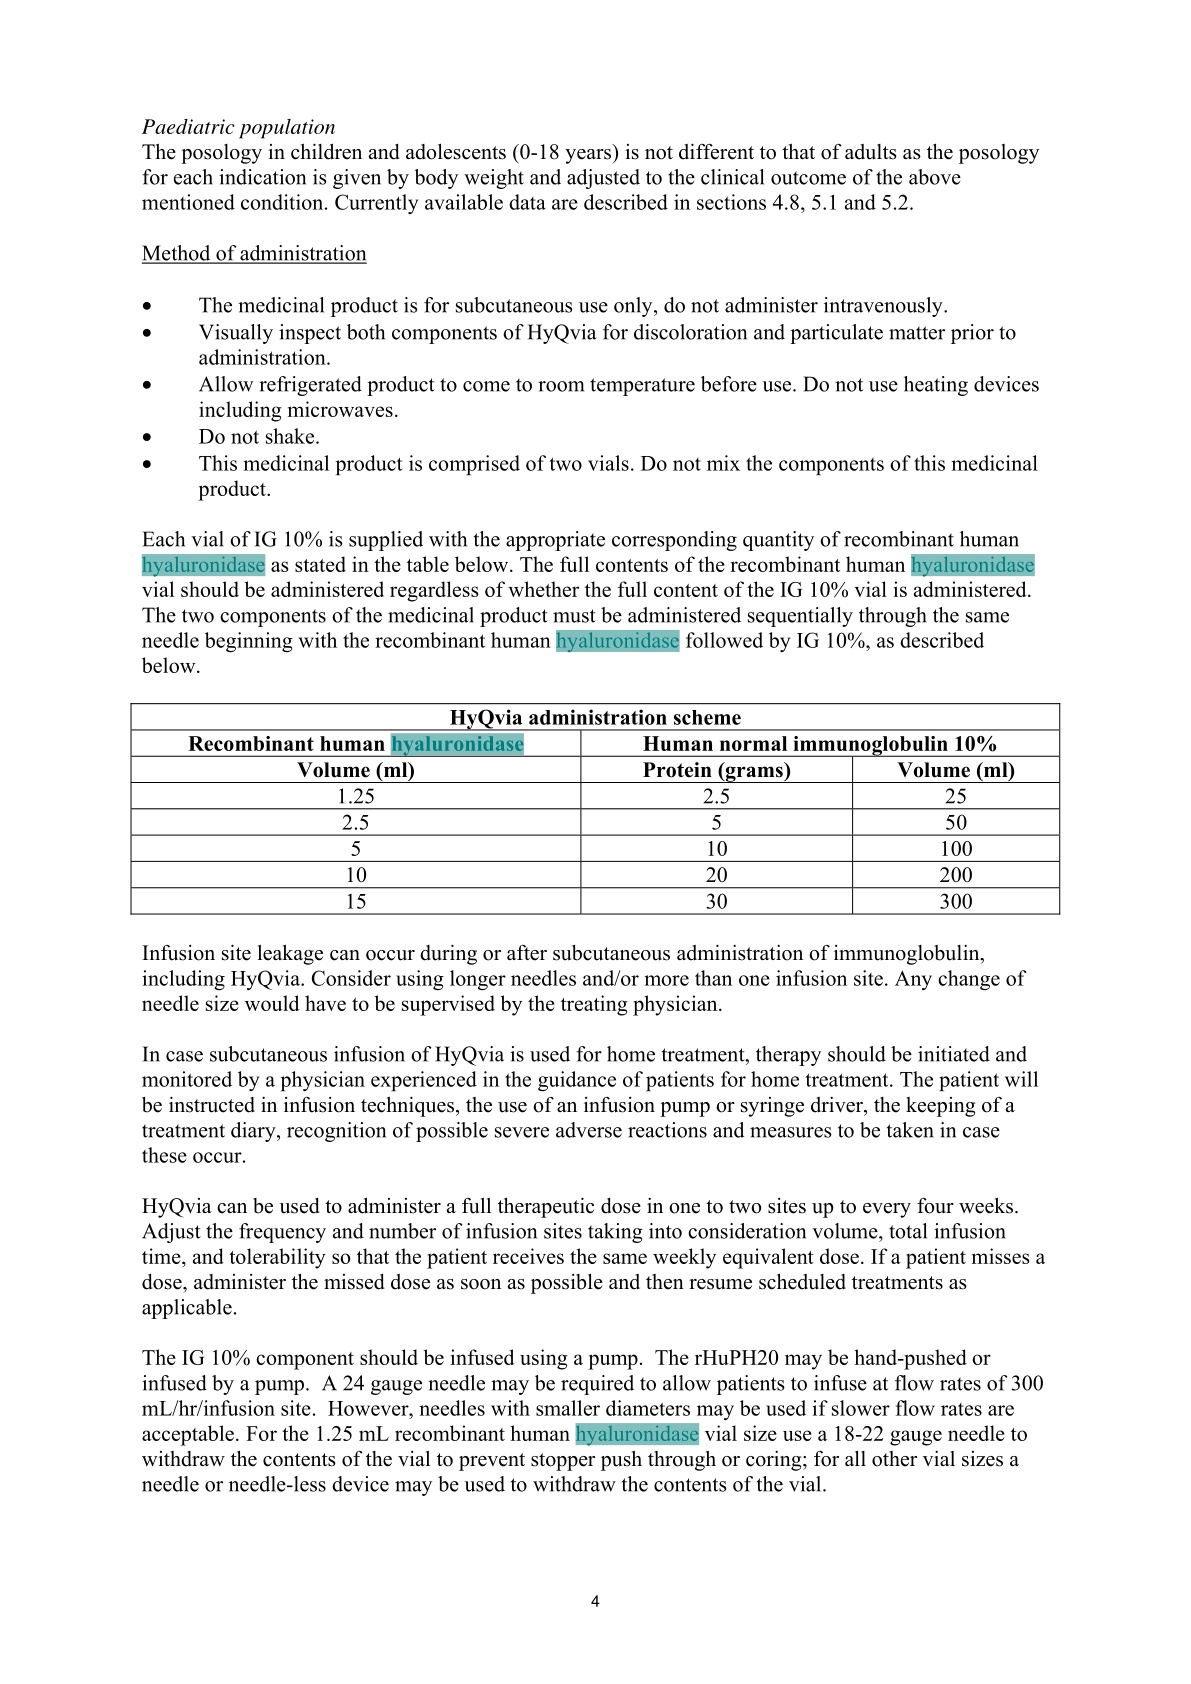merged_cells: (130, 701, 1060, 916)
